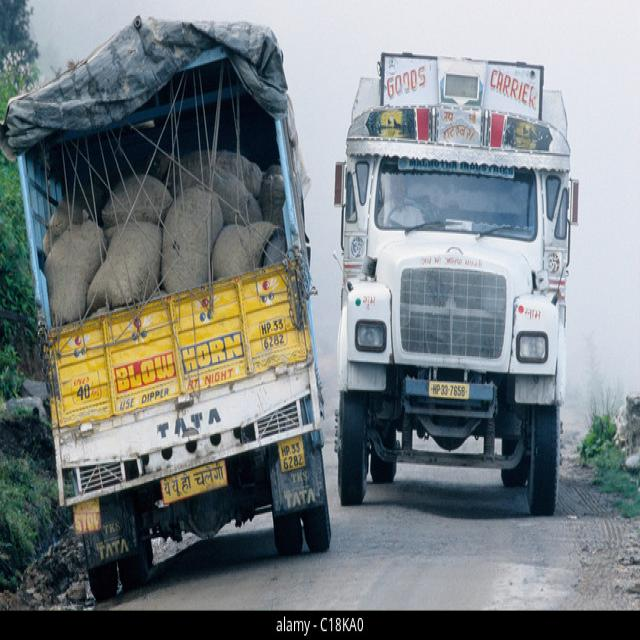truck: (0, 15, 333, 602), (333, 51, 580, 515)
